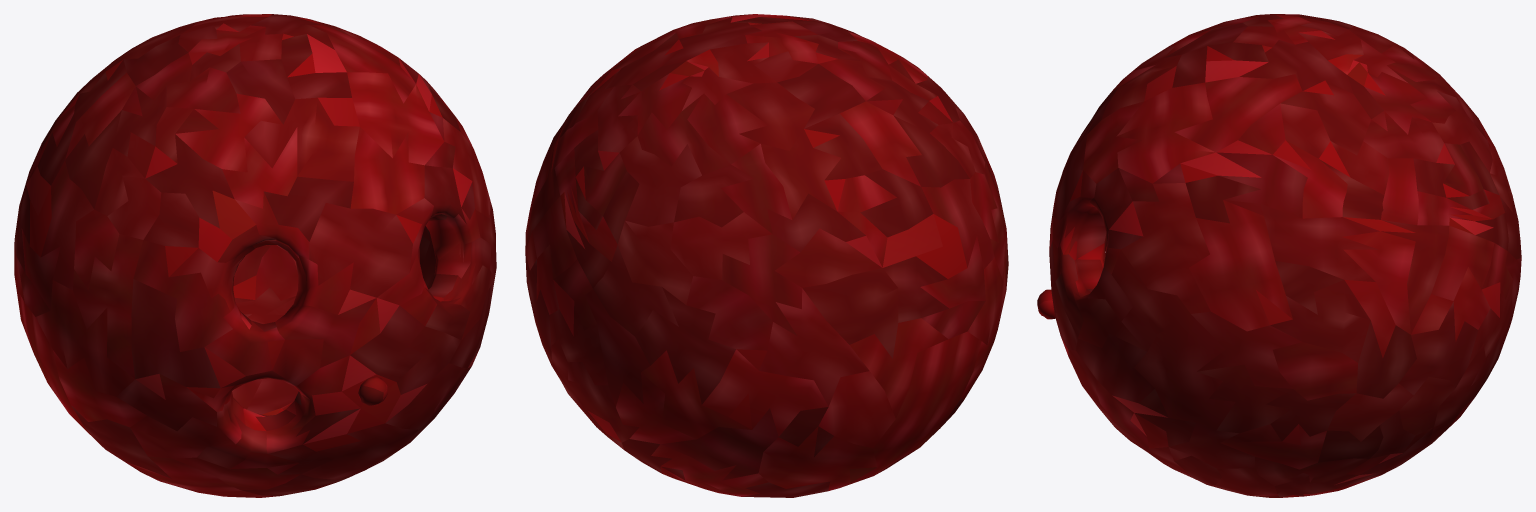
The model's file is Objeto02.fbx.
The picture shows the model from 3 angles, left to right: view 1: azimuth 30°, elevation 25°; view 2: azimuth 150°, elevation 25°; view 3: azimuth 270°, elevation 25°; orthographic projection.
Visible parts, largest first — view 1: Mesh_0; view 2: Mesh_0; view 3: Mesh_0.
Boxes of the visible parts, x1=… form: Mesh_0: x1=14, y1=14, x2=496, y2=497; Mesh_0: x1=525, y1=14, x2=1008, y2=497; Mesh_0: x1=1037, y1=14, x2=1521, y2=497.
Bounding box in the file's own units: 190 × 191 × 190.
1 material, 1 textured.
